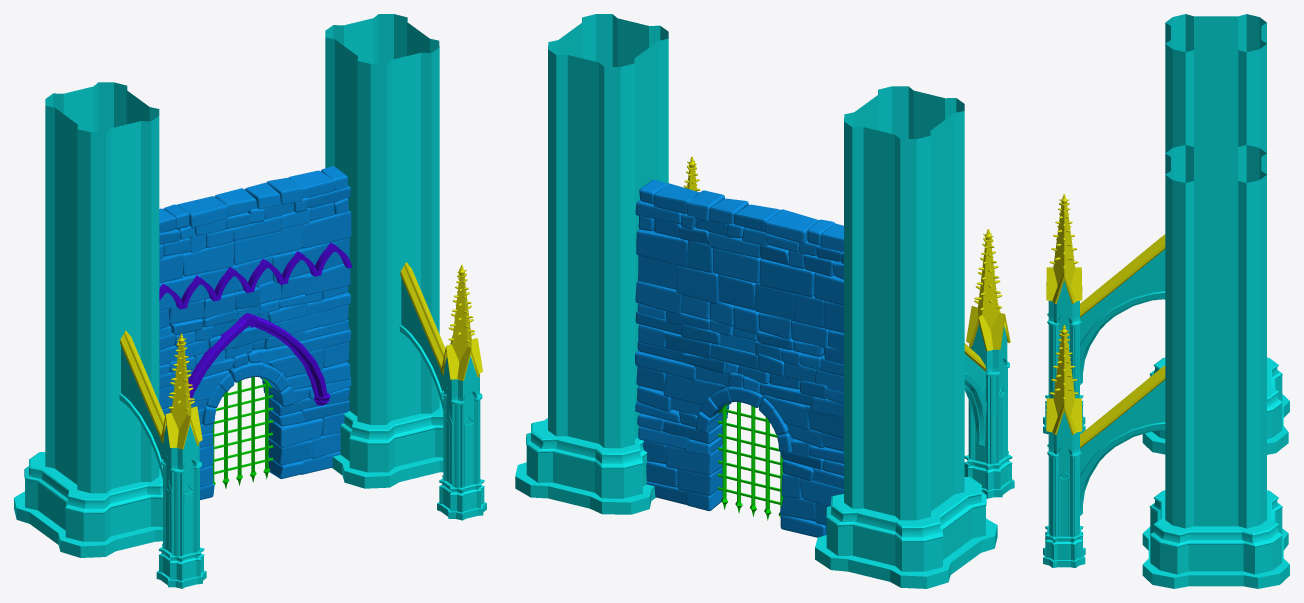
The model's file is bossarea_gate.fbx.
The picture shows the model from 3 angles, left to right: view 1: azimuth 30°, elevation 25°; view 2: azimuth 150°, elevation 25°; view 3: azimuth 270°, elevation 25°; orthographic projection. The views are drawn at different scales.
Parts seen in each view (by area): view 1: town_gate_pillars, town_gate_highwall, town_gate_buttress_right, town_gate_buttress_left, wall_decorations, gate; view 2: town_gate_pillars, town_gate_highwall, town_gate_buttress_left, gate; view 3: town_gate_pillars, town_gate_buttress_right, town_gate_buttress_left.
Boxes of the visible parts, x1,y1,x2,y2 form: town_gate_pillars: (14,14,443,557); town_gate_highwall: (159,166,351,499); town_gate_buttress_right: (399,262,486,520); town_gate_buttress_left: (119,330,206,588); wall_decorations: (159,242,352,405); gate: (212,377,273,488); town_gate_pillars: (515,14,997,588); town_gate_highwall: (635,179,843,537); town_gate_buttress_left: (964,229,1014,498); gate: (718,402,783,520); town_gate_pillars: (1142,14,1289,588); town_gate_buttress_right: (1043,325,1165,567); town_gate_buttress_left: (1043,194,1165,434).
Size of the model in its own units: 1785 by 1738 by 978.
